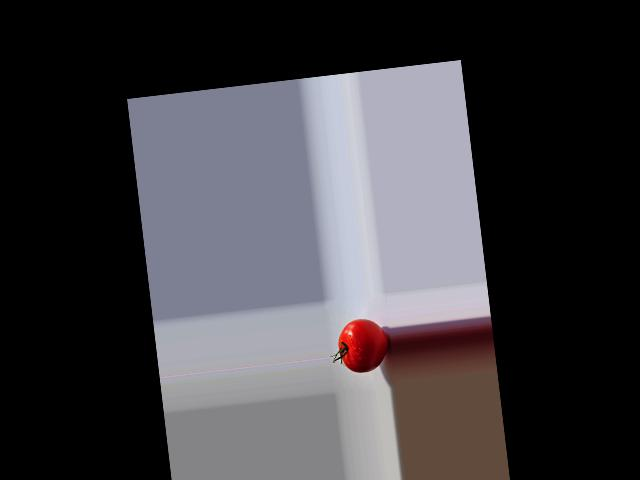tomato: (336, 316, 391, 374)
